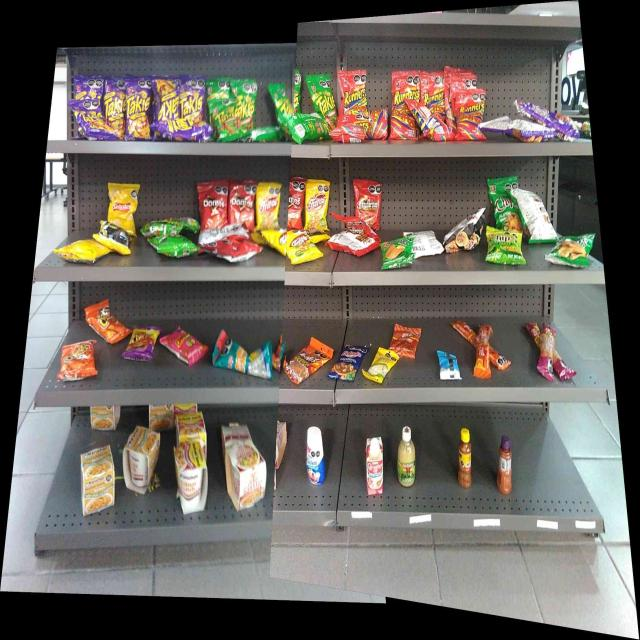bitzEnchilado90: (394, 325, 417, 358)
bitzEnchilado95: (477, 322, 492, 378), (452, 318, 476, 342)
bitzHabanero: (531, 318, 574, 381)
bokadosCacahuates: (339, 346, 358, 380)
botaneraChilito: (458, 427, 472, 489)
cheetosFlaminHot: (130, 326, 155, 360)
cheetosOriginal: (91, 306, 125, 339), (62, 346, 95, 376)
chipsJalapeno: (492, 179, 518, 225), (556, 235, 590, 268)
chipsPapatinas: (488, 227, 518, 263)
churrumais: (164, 332, 204, 361)
delPrimoSalsa: (397, 425, 416, 487)
doritosNacho: (199, 182, 227, 226), (230, 181, 253, 223), (288, 178, 304, 230)
fritosLimon: (257, 182, 281, 229), (307, 183, 328, 231), (288, 233, 316, 262)
leoMix: (294, 348, 322, 376)
maruchanPollo: (127, 428, 160, 493), (82, 449, 115, 511)
maruchanRes: (176, 444, 208, 512)
nestleCarnation: (365, 437, 384, 495)
nestleLechera: (306, 428, 326, 486)
nissinRes: (226, 448, 267, 508)
productoAtras: (519, 190, 552, 242), (490, 118, 548, 141), (451, 214, 483, 251), (279, 115, 327, 139), (331, 233, 375, 254), (420, 108, 447, 140), (100, 224, 129, 249), (202, 227, 247, 241), (439, 350, 460, 380), (416, 232, 440, 255)
rancheritos: (355, 180, 380, 221)
rufflesQueso: (383, 238, 412, 268)
runners: (392, 71, 418, 139), (456, 86, 483, 139), (340, 70, 367, 110), (421, 72, 445, 106)
sabritasOriginal: (109, 182, 138, 222), (65, 240, 98, 260)
semillasCalabaza: (372, 348, 391, 382)
semillasGirasol: (218, 337, 272, 373)
tajinDulce: (497, 436, 513, 495)
takisFuego: (128, 78, 152, 139), (76, 98, 106, 139), (156, 119, 209, 142), (108, 79, 126, 140), (181, 76, 205, 118), (155, 76, 179, 117)
takisOriginal: (213, 99, 240, 141), (309, 75, 335, 112), (242, 79, 258, 127), (271, 83, 292, 113)
